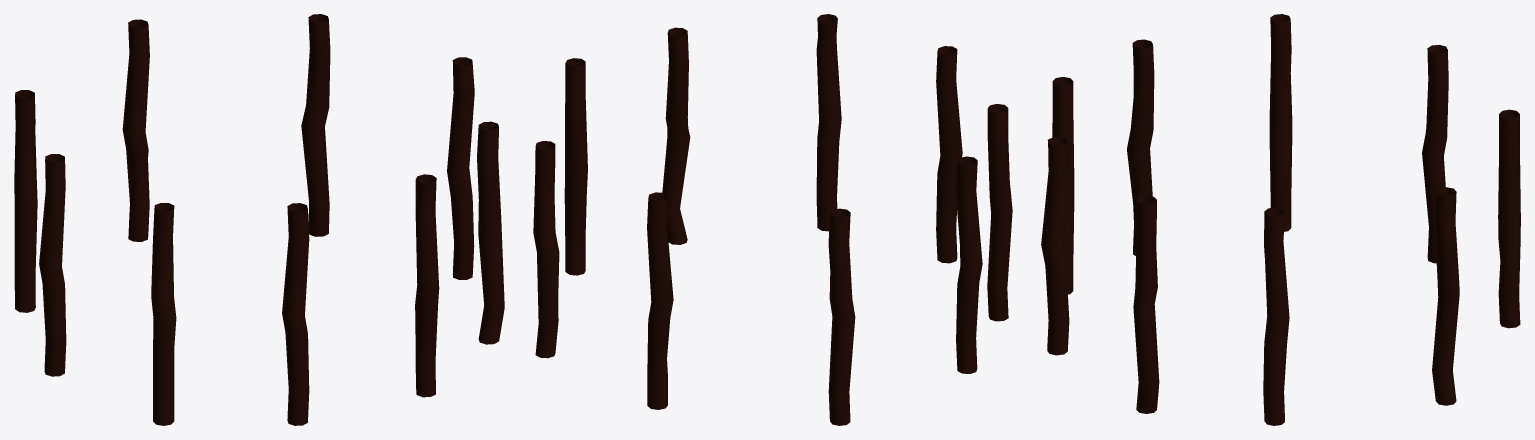
Rendered from WoodenMidCircle01.FBX.
3 renders of one model, left to right at view 1: azimuth 30°, elevation 25°; view 2: azimuth 150°, elevation 25°; view 3: azimuth 270°, elevation 25°, orthographic. The views are drawn at different scales.
Parts seen in each view (by area): view 1: Roundhouse_WoodenMidCircle; view 2: Roundhouse_WoodenMidCircle; view 3: Roundhouse_WoodenMidCircle.
Boxes of the visible parts, x1,y1,x2,y2 form: Roundhouse_WoodenMidCircle: (14, 14, 504, 425); Roundhouse_WoodenMidCircle: (533, 14, 1012, 425); Roundhouse_WoodenMidCircle: (1041, 14, 1520, 425).
Bounding box in the file's own units: 13.1 × 6.45 × 12.94.
